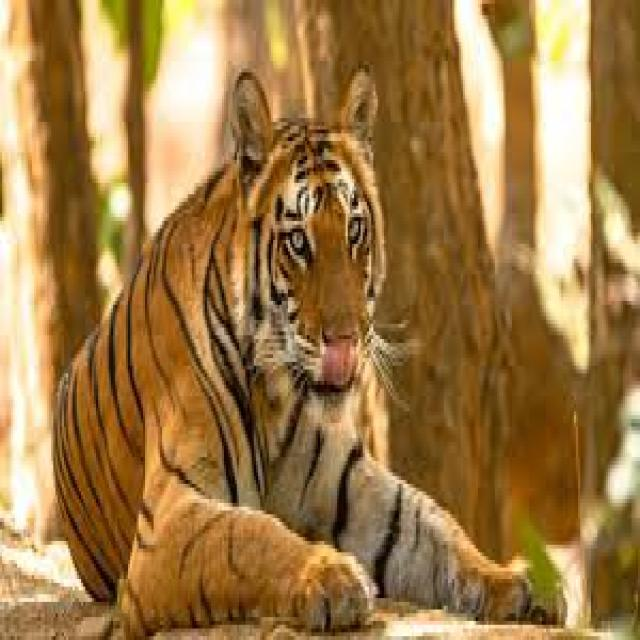Tiger: (49, 61, 548, 632)
